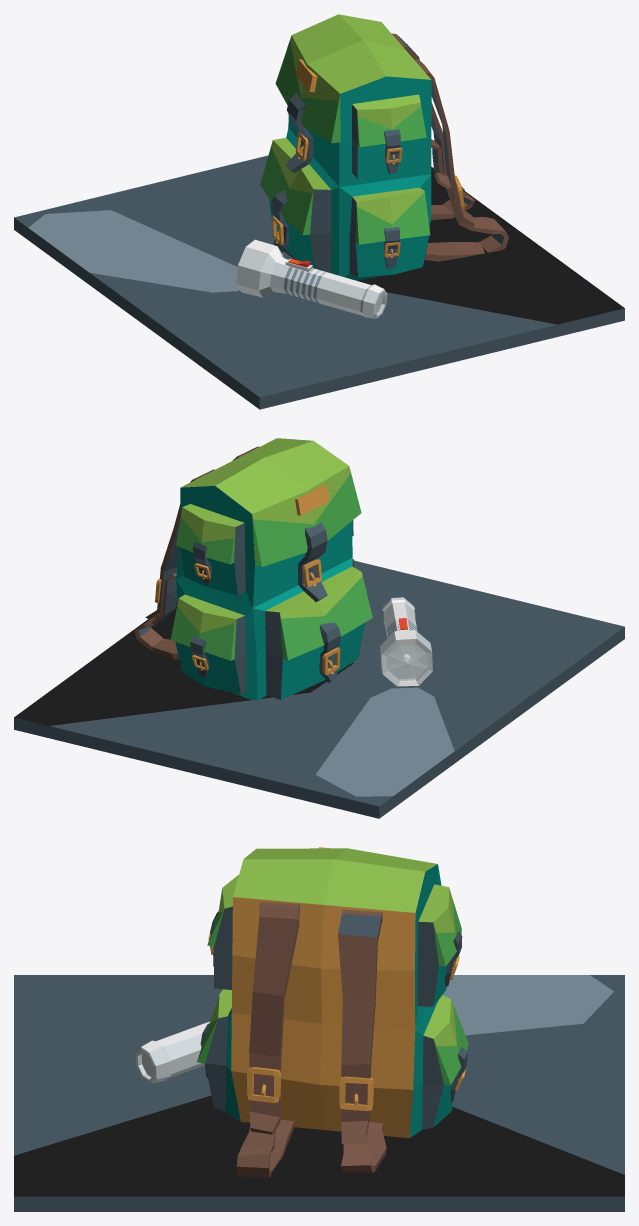
Rendered from backpack-flashlight.glb.
3 views of the same model, one above another, from view 1: azimuth 30°, elevation 25°; view 2: azimuth 150°, elevation 25°; view 3: azimuth 270°, elevation 25° (orthographic). The views are drawn at different scales.
Visible parts, largest first — view 1: group454162325, group23975350, group1549332179; view 2: group454162325, group23975350, group1549332179; view 3: group454162325, group23975350, group1549332179.
Boxes of the visible parts, box(x1,y1,x2,y2) form: group454162325: box(14, 155, 624, 409); group23975350: box(260, 14, 508, 280); group1549332179: box(236, 239, 387, 318); group454162325: box(14, 560, 624, 818); group23975350: box(134, 438, 372, 700); group1549332179: box(380, 597, 432, 686); group454162325: box(14, 975, 624, 1211); group23975350: box(197, 847, 468, 1177); group1549332179: box(135, 1021, 210, 1083).
Bounding box in the file's own units: 2.48 × 1.42 × 2.89.
